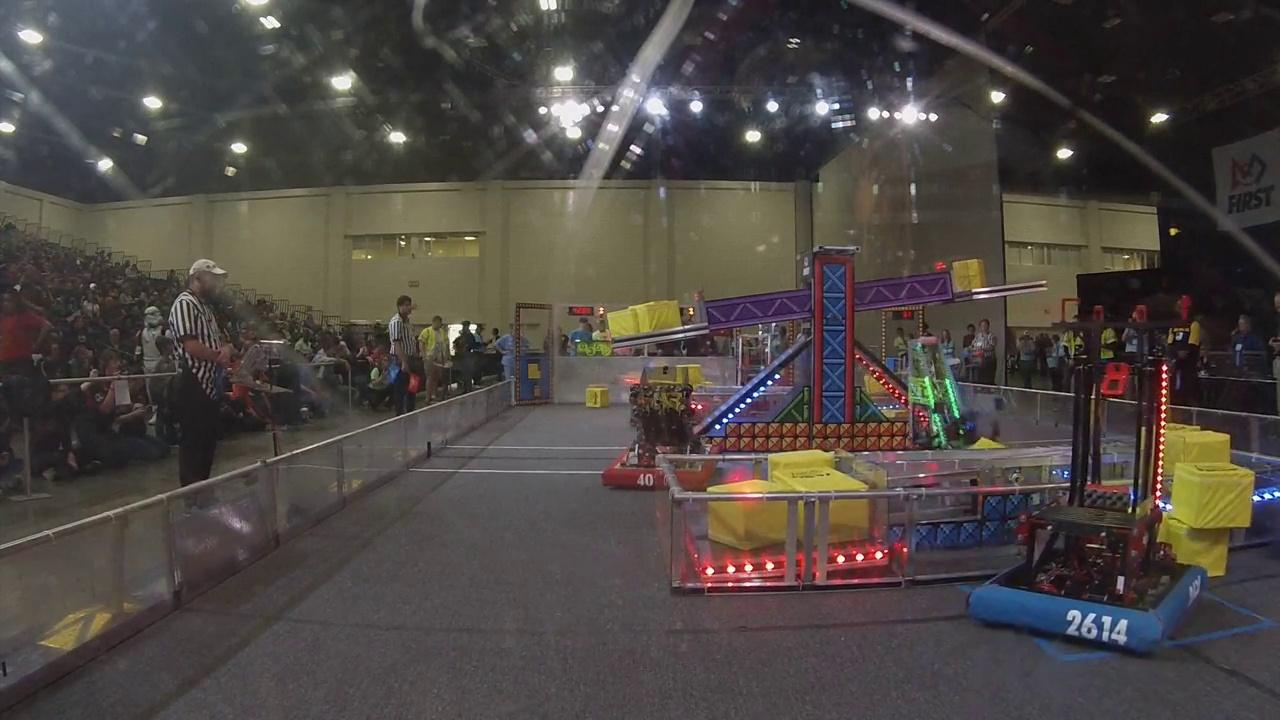robot: (959, 315, 1211, 663), (601, 366, 723, 490)
